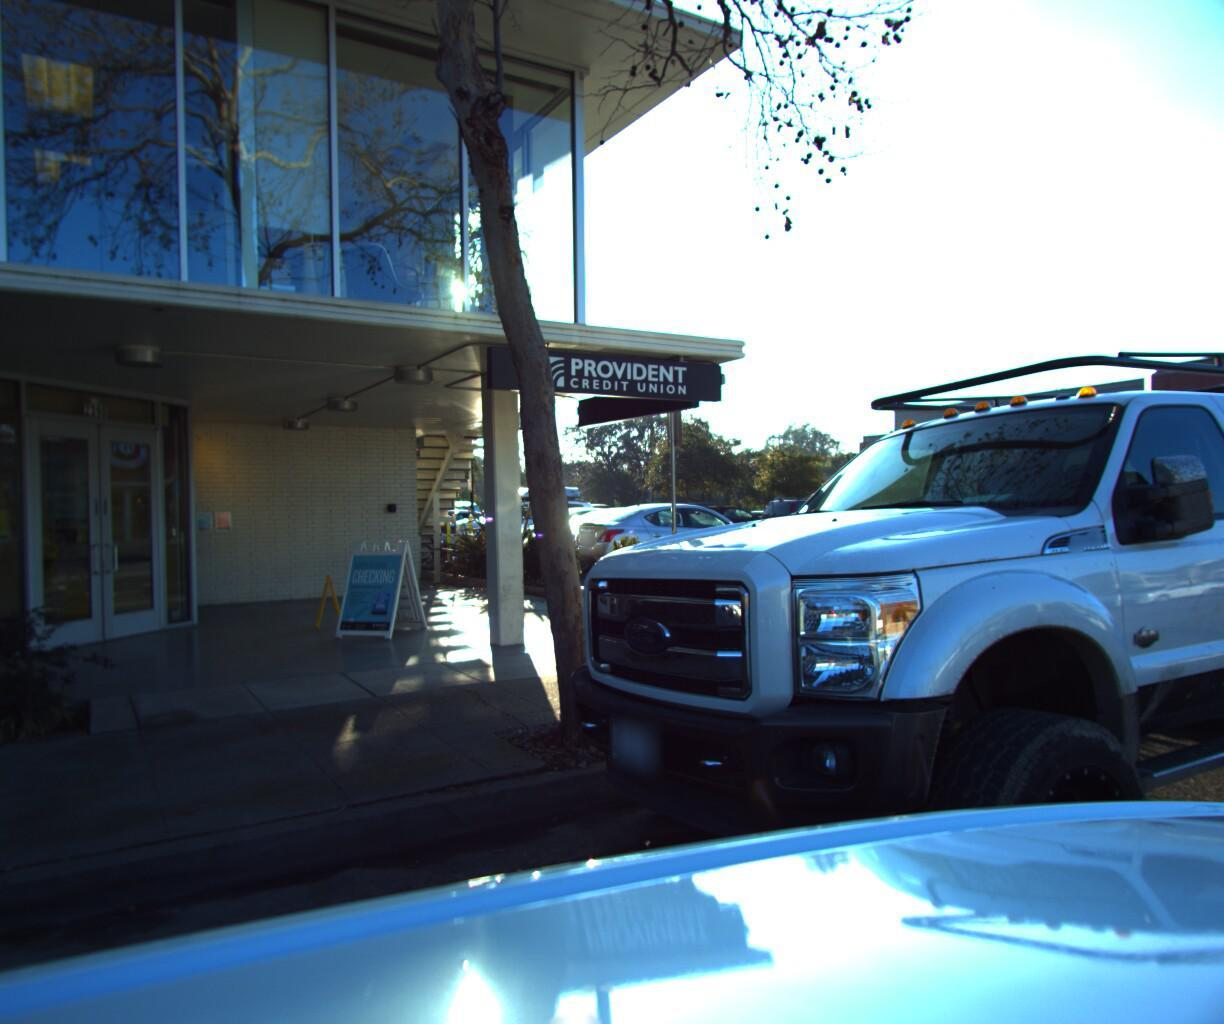car: (458, 120, 1224, 1024)
